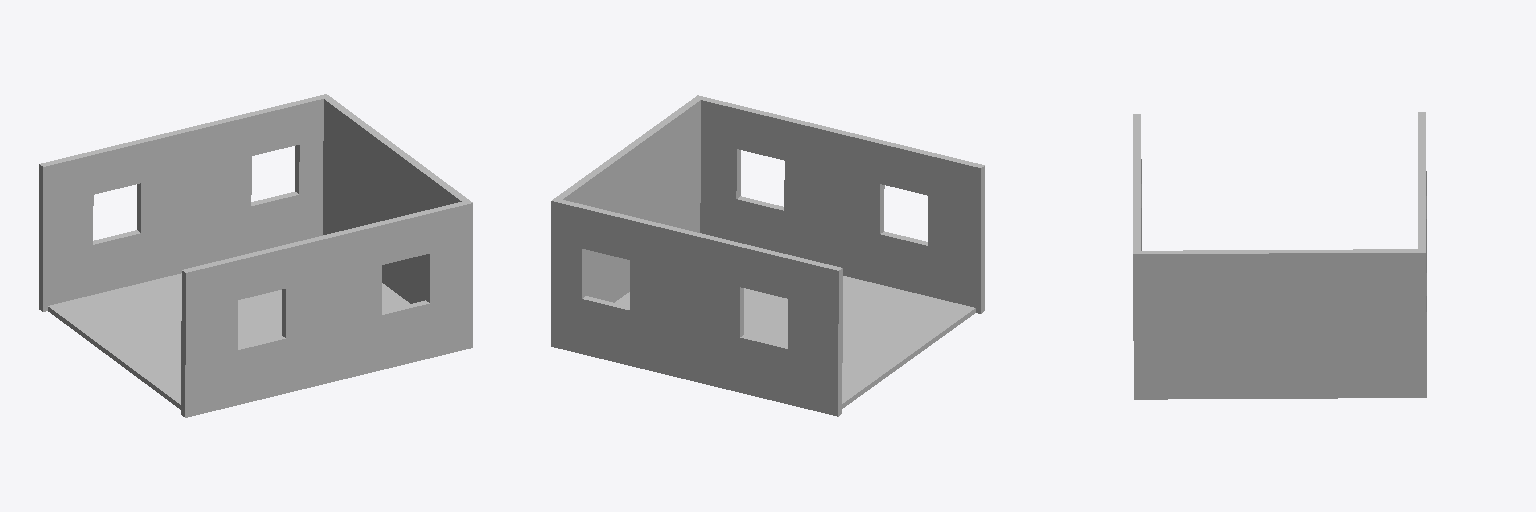
The model's file is Room4.mtl.obj.
3 views of the same model, side by side, from view 1: azimuth 30°, elevation 25°; view 2: azimuth 150°, elevation 25°; view 3: azimuth 270°, elevation 25° (orthographic).
Visible parts, largest first — view 1: obj_0; view 2: obj_0; view 3: obj_0.
Part boxes in pixels (x1,y1,x2,y2): obj_0: (39, 94, 472, 417); obj_0: (551, 95, 984, 416); obj_0: (1133, 112, 1426, 399).
Bounding box in the file's own units: 120 × 58.69 × 106.